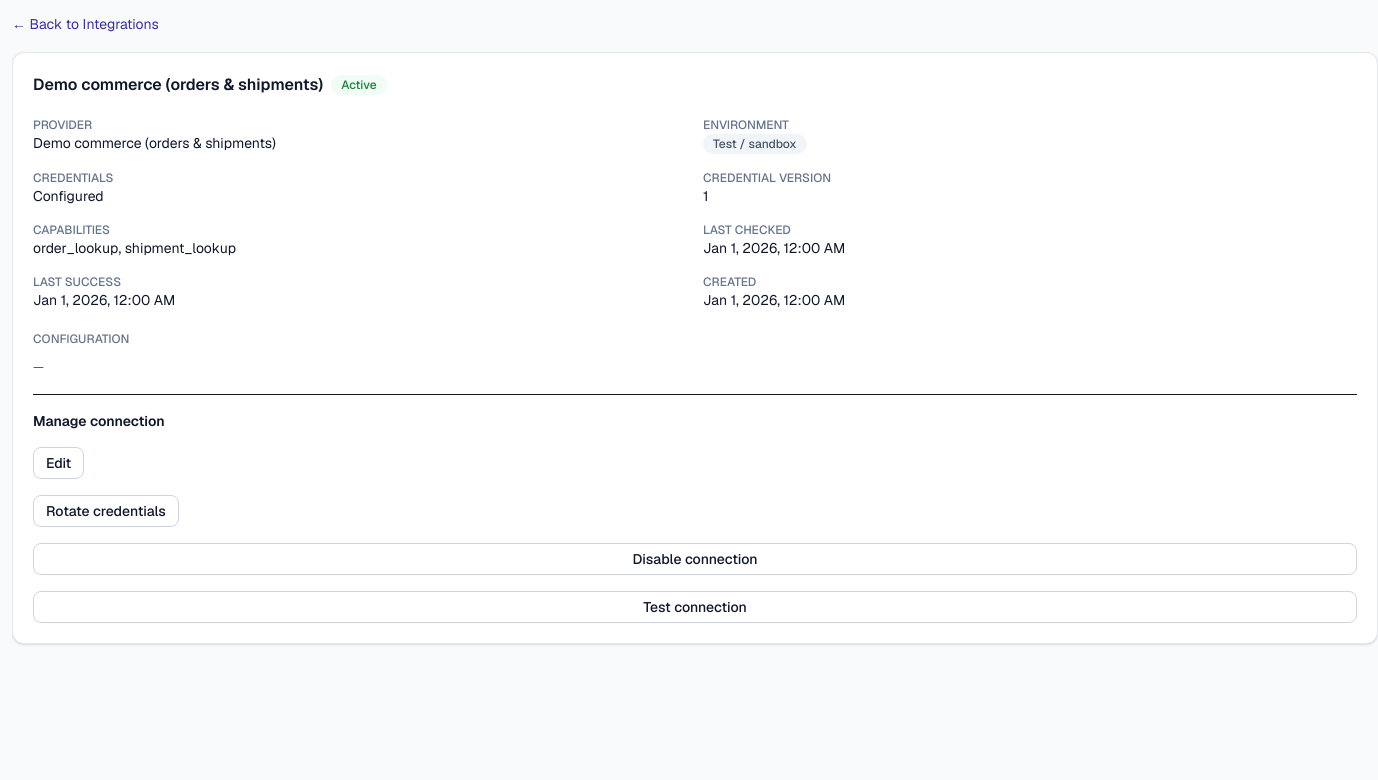
Test: ManageConnectionControls (Phase 22 Chunk 3) › renders the real server error on a failed mutation, never a client-guessed outcome
Expected: the heading "Demo commerce (orders & shipments)" is shown, [33, 73, 323, 97]
Click the button "Test connection" at x=695, y=607, box [33, 591, 1357, 623]
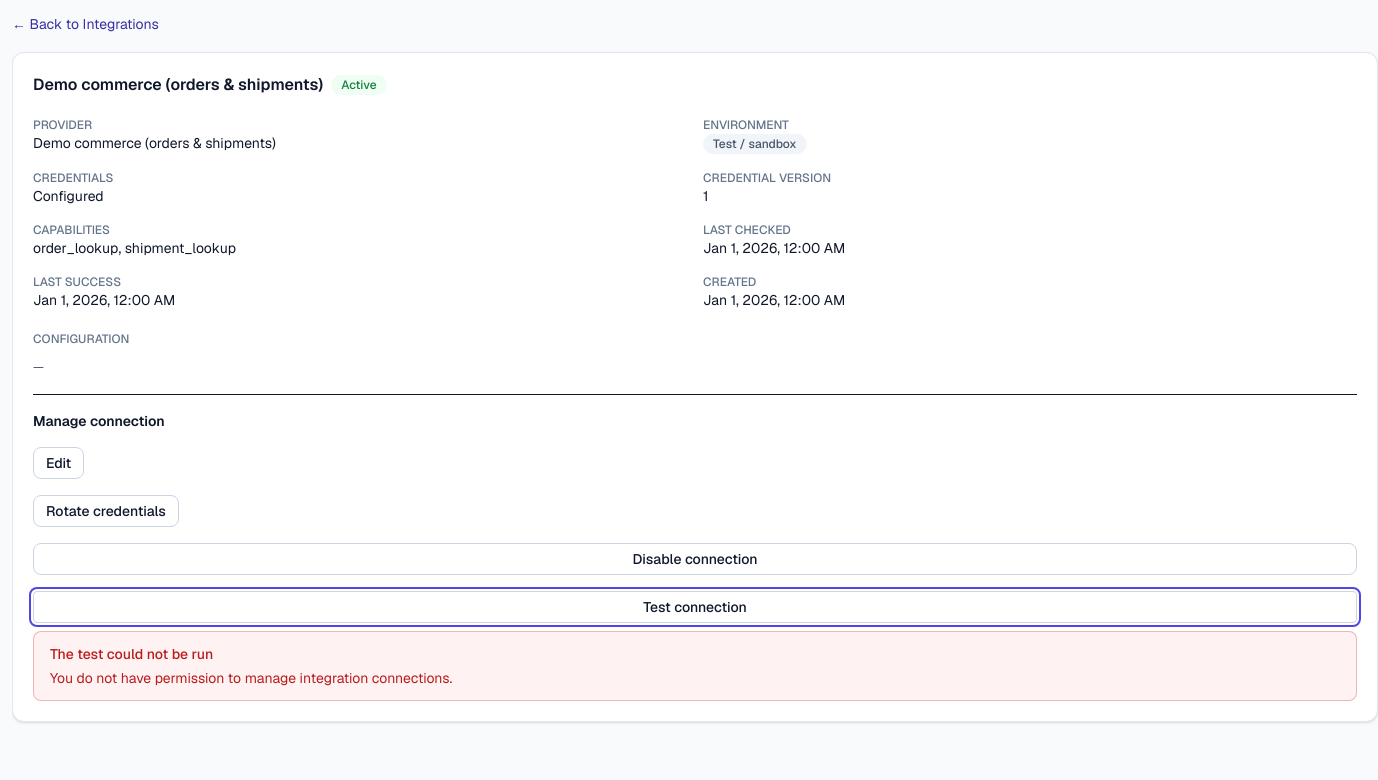
Expected: the text "You do not have permission to manage integration connections." is shown, [50, 669, 452, 687]
